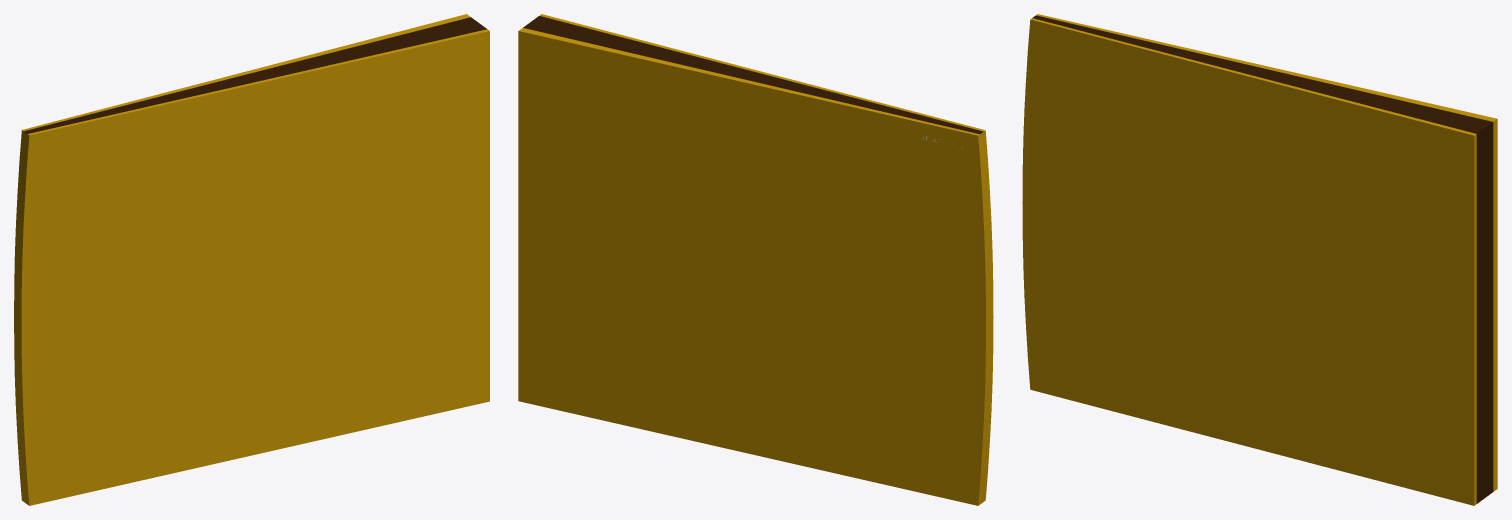
The picture shows the model from 3 angles, left to right: view 1: azimuth 30°, elevation 25°; view 2: azimuth 150°, elevation 25°; view 3: azimuth 330°, elevation 25°; orthographic projection.
Parts seen in each view (by area): view 1: wallet; view 2: wallet; view 3: wallet.
Part boxes in pixels (x1,y1,x2,y2): wallet: [14, 14, 489, 505]; wallet: [518, 14, 993, 505]; wallet: [1022, 14, 1497, 505].
Size of the model in its own units: 4.61 by 3.54 by 0.4026.
